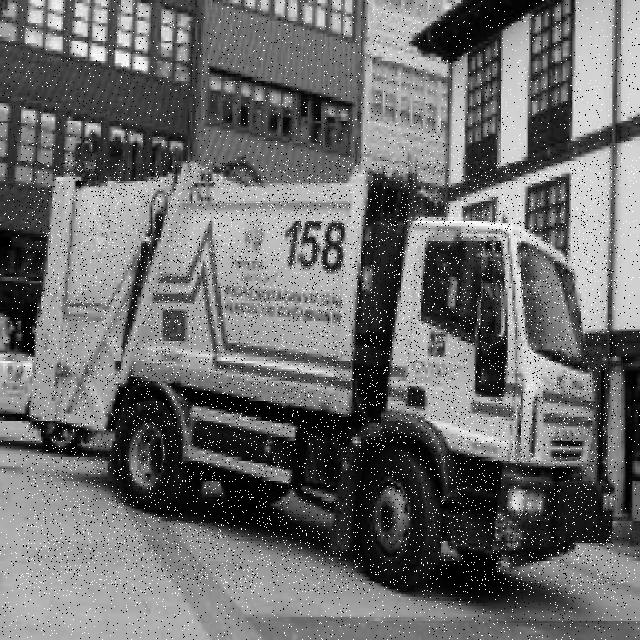Garbage Truck: (26, 160, 616, 594)
